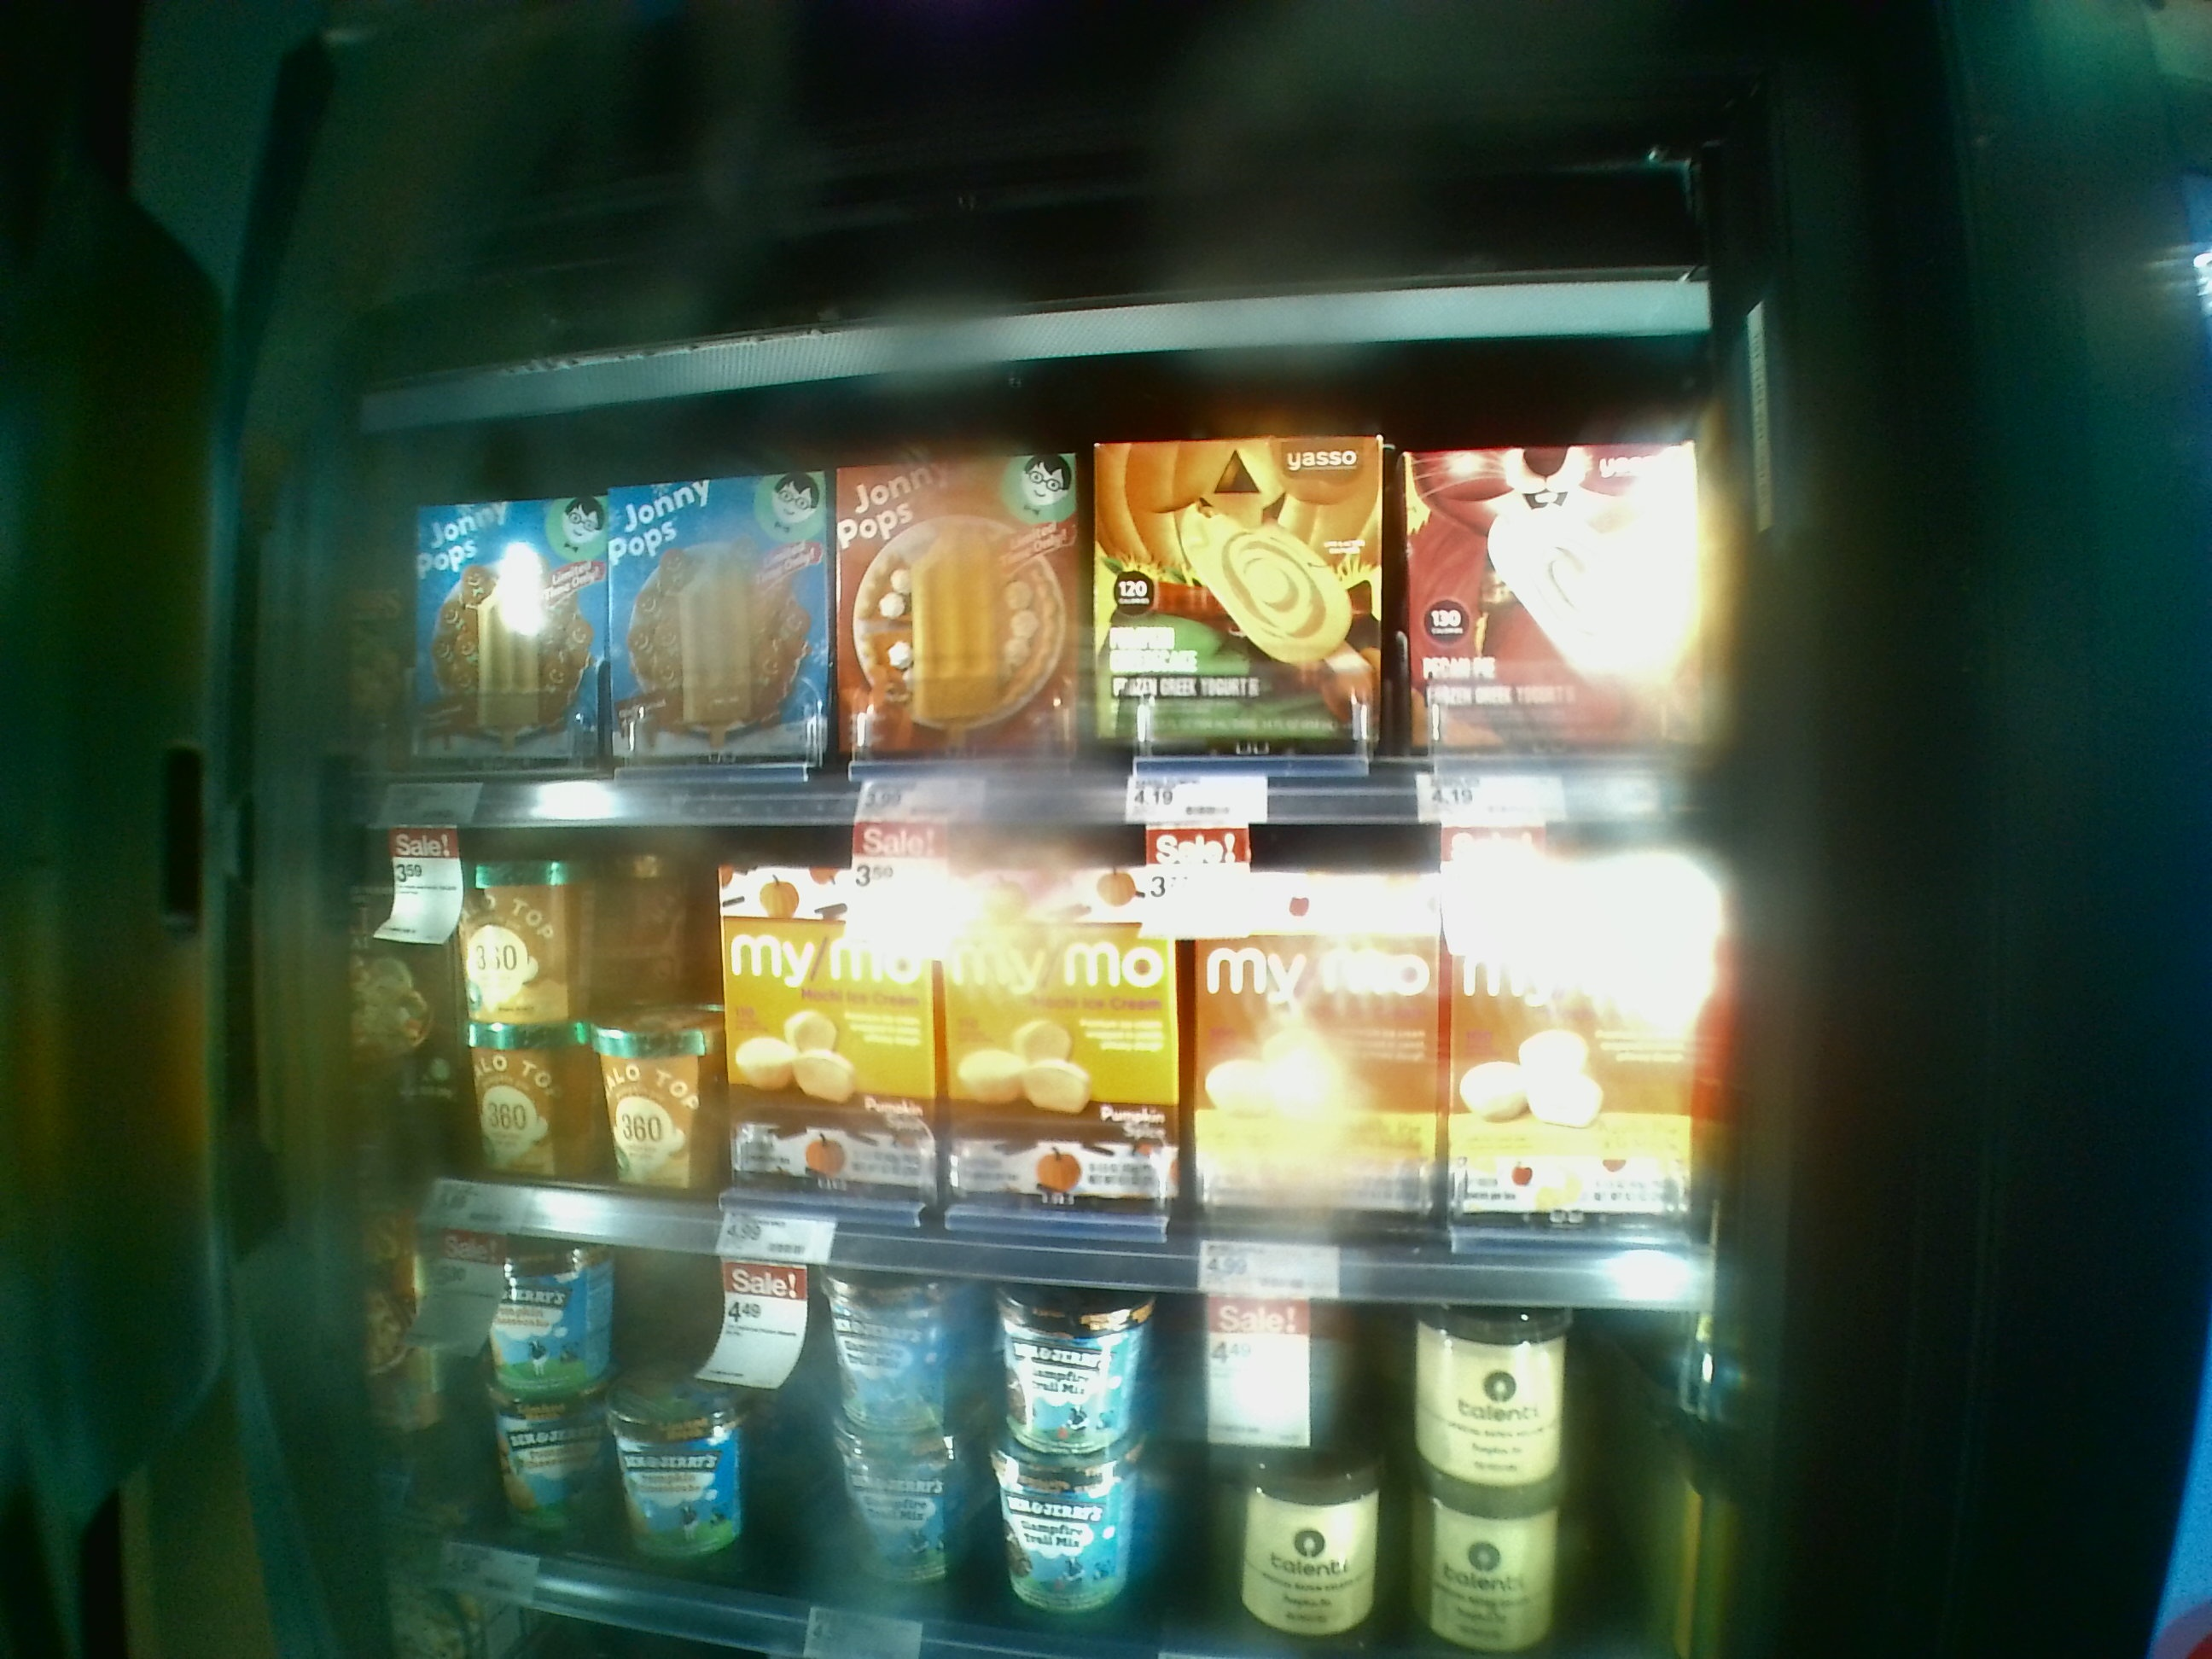shelf: (340, 781, 1719, 1314), (364, 362, 1726, 821)
